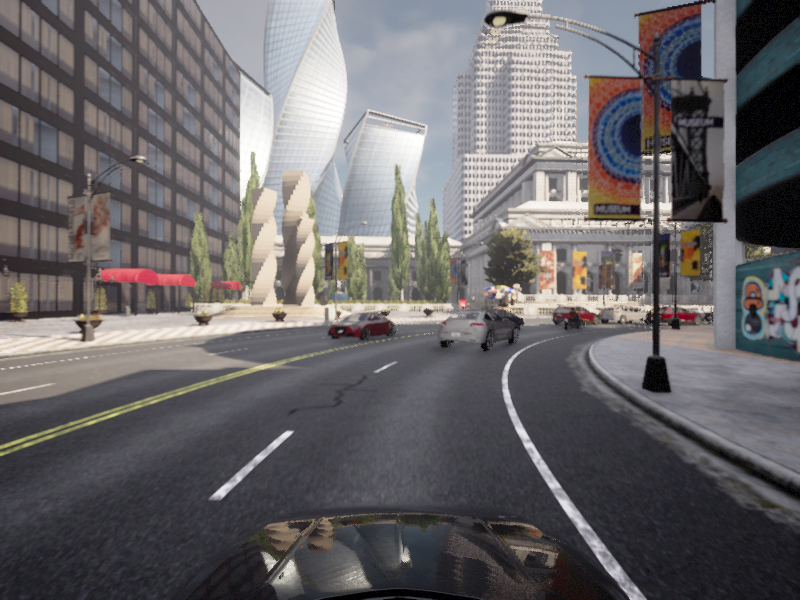vehicle: (431, 308, 521, 354), (322, 311, 398, 343), (465, 308, 527, 333), (699, 306, 771, 325), (642, 306, 706, 326), (547, 305, 603, 326), (594, 305, 654, 324), (647, 307, 712, 323), (560, 306, 587, 331)
